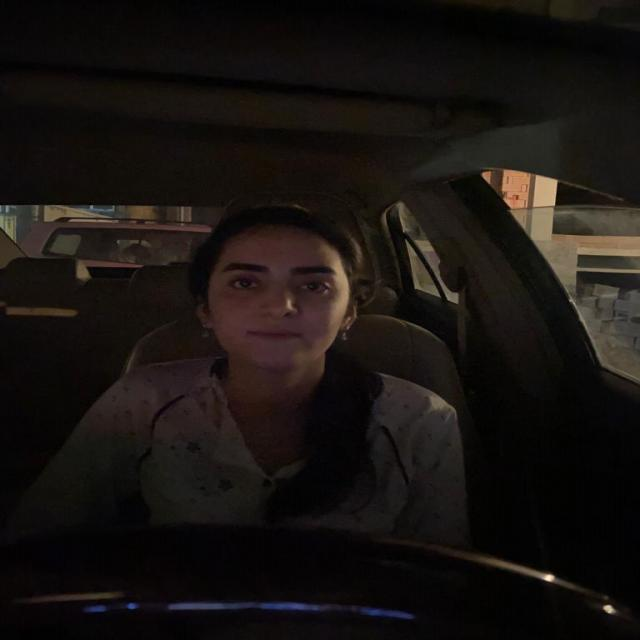person: (188, 201, 378, 372)
